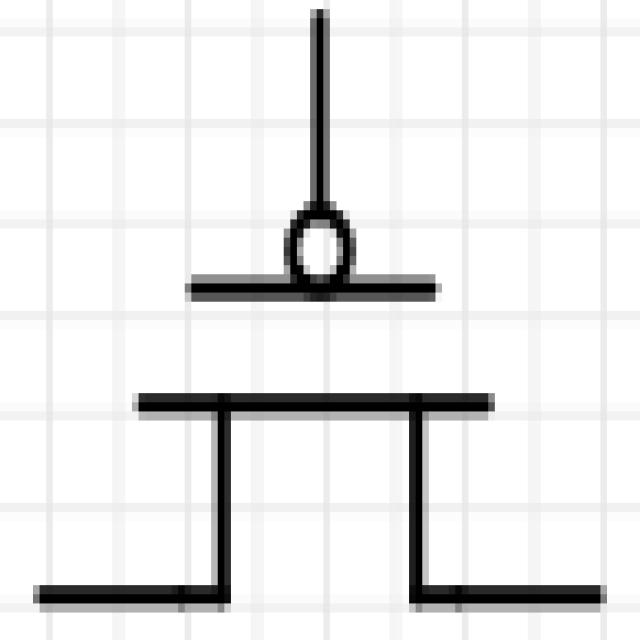pmos: (31, 26, 582, 640)
